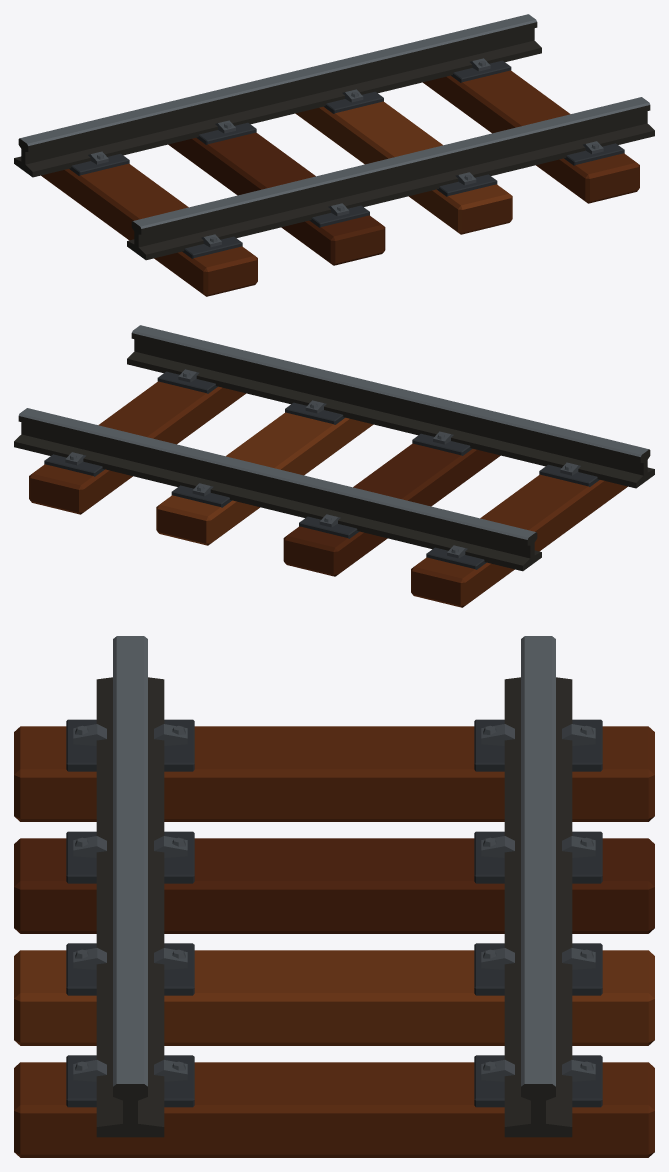
File: Straight Mine Rail.obj
3 views of the same model, one above another, from view 1: azimuth 30°, elevation 25°; view 2: azimuth 150°, elevation 25°; view 3: azimuth 270°, elevation 25° (orthographic). The views are drawn at different scales.
Visible parts, largest first — view 1: Straight_Mine_Rail.Static; view 2: Straight_Mine_Rail.Static; view 3: Straight_Mine_Rail.Static.
Part boxes in pixels (x1,y1,x2,y2): Straight_Mine_Rail.Static: [14, 14, 654, 296]; Straight_Mine_Rail.Static: [14, 325, 654, 607]; Straight_Mine_Rail.Static: [14, 636, 654, 1157].
Bounding box in the file's own units: 2 × 0.226 × 1.21.
